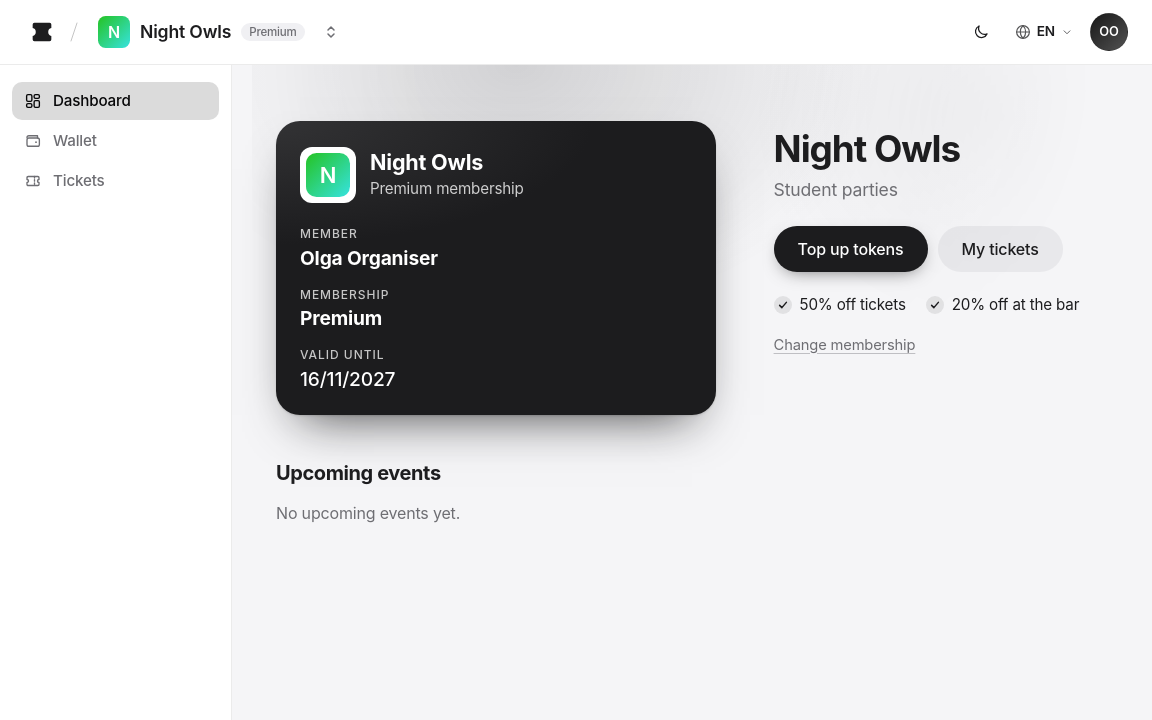
Scenario: organisation switcher › lists your organisations and takes you to the one you pick
The width and height of the screenshot is (1152, 720).
Click the button named "Switch organisation".
click(331, 32)  # box x1=317 y1=16 x2=345 y2=48
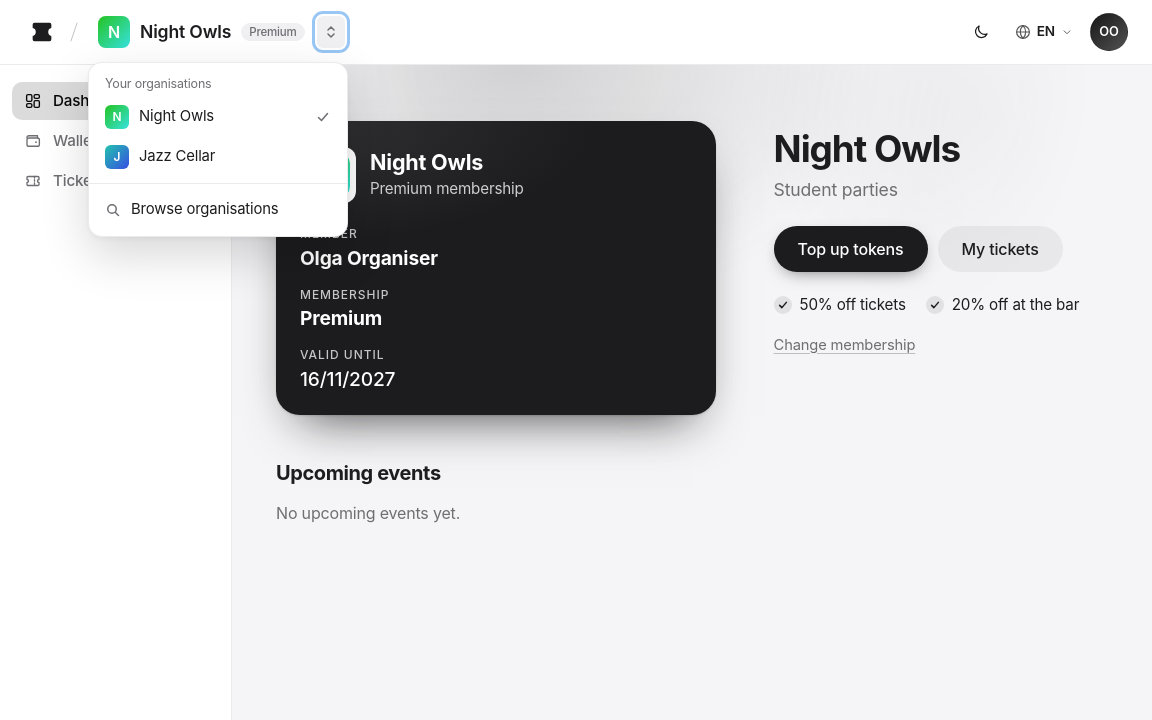
Click the link "J Jazz Cellar".
click(160, 157)  # box x1=105 y1=145 x2=215 y2=169
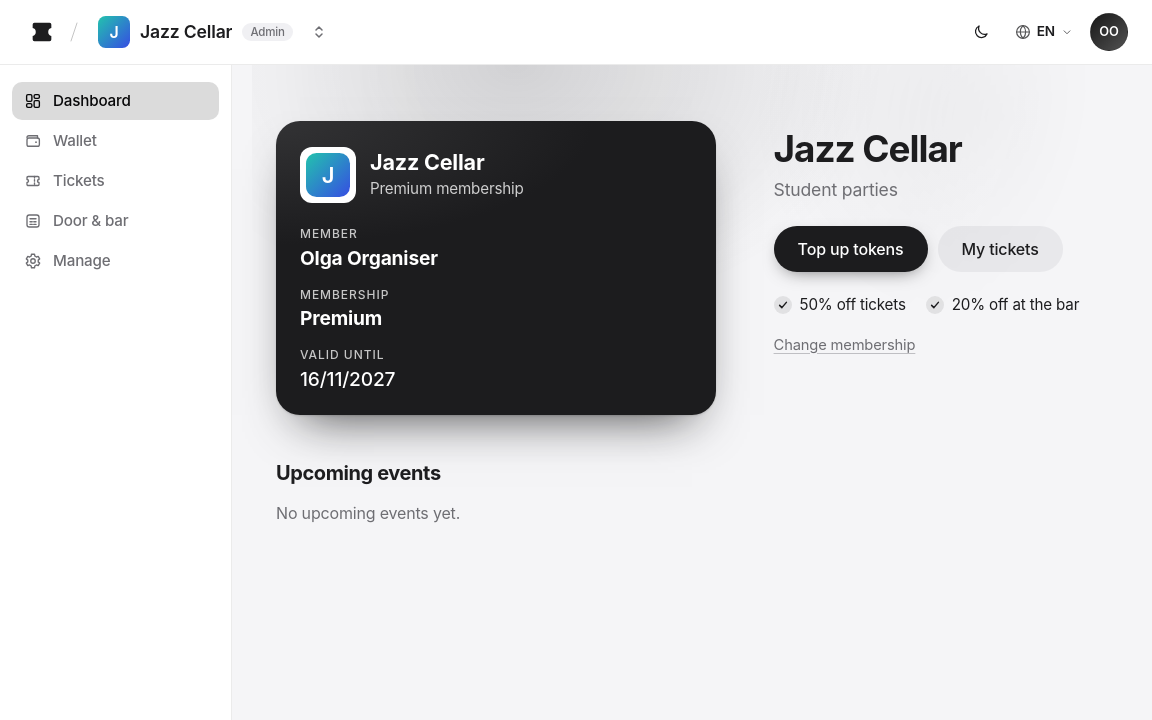
Expected: the heading "Jazz Cellar" is shown, x1=774 y1=126 x2=962 y2=171
Expected: the text "Your organisations" is gone
